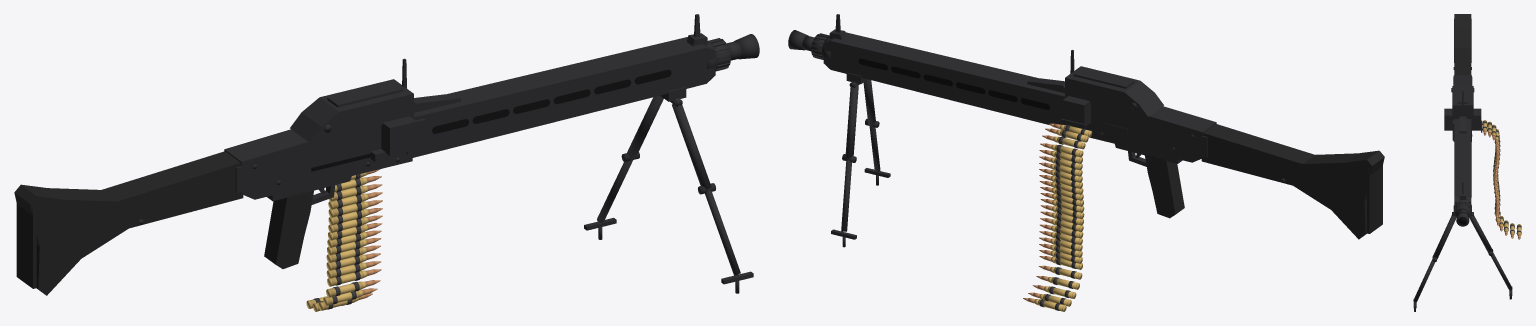
Rendered from lmg02.glb.
3 renders of one model, left to right at view 1: azimuth 30°, elevation 25°; view 2: azimuth 150°, elevation 25°; view 3: azimuth 270°, elevation 25°, orthographic. The views are drawn at different scales.
Visible parts, largest first — view 1: K_BarrelJacket, K_Stock, K_Receiver, K_BeltCases, K_FeedCover, K_BipodLegs, K_PistolGrip, K_ButtCap, K_JacketVents, K_BeltLinks, K_FeedTray, K_BeltBullets (+2 smaller); view 2: K_BarrelJacket, K_Stock, K_BeltCases, K_Receiver, K_FeedCover, K_BipodLegs, K_PistolGrip, K_BeltLinks, K_BeltBullets, K_ButtCap, K_JacketVents, K_FeedTray (+1 smaller); view 3: K_BarrelJacket, K_Stock, K_BipodLegs, K_BeltCases, K_FeedCover, K_FeedTray, K_BeltBullets, K_BeltLinks, K_Receiver, K_FeedCoverRib, K_RearSightBase, K_MuzzleRing (+1 smaller).
Boxes of the visible parts, x1=… form: K_BarrelJacket: x1=412, y1=37, x2=715, y2=157; K_Stock: x1=14, y1=151, x2=243, y2=295; K_Receiver: x1=224, y1=118, x2=412, y2=199; K_BeltCases: x1=306, y1=172, x2=368, y2=311; K_FeedCover: x1=290, y1=79, x2=413, y2=142; K_BipodLegs: x1=597, y1=95, x2=740, y2=275; K_PistolGrip: x1=264, y1=189, x2=314, y2=268; K_ButtCap: x1=16, y1=204, x2=36, y2=288; K_JacketVents: x1=436, y1=69, x2=667, y2=133; K_BeltLinks: x1=313, y1=174, x2=362, y2=309; K_FeedTray: x1=381, y1=116, x2=416, y2=155; K_BeltBullets: x1=359, y1=169, x2=382, y2=299; K_BarrelJacket: x1=823, y1=32, x2=1065, y2=124; K_Stock: x1=1201, y1=124, x2=1384, y2=239; K_BeltCases: x1=1034, y1=124, x2=1092, y2=311; K_Receiver: x1=1066, y1=97, x2=1216, y2=162; K_FeedCover: x1=1065, y1=66, x2=1163, y2=116; K_BipodLegs: x1=841, y1=79, x2=880, y2=231; K_PistolGrip: x1=1144, y1=154, x2=1184, y2=218; K_BeltLinks: x1=1039, y1=125, x2=1086, y2=310; K_BeltBullets: x1=1023, y1=123, x2=1060, y2=303; K_ButtCap: x1=1367, y1=166, x2=1382, y2=233; K_JacketVents: x1=861, y1=58, x2=1046, y2=109; K_FeedTray: x1=1062, y1=96, x2=1090, y2=126; K_BarrelJacket: x1=1454, y1=119, x2=1471, y2=216; K_Stock: x1=1454, y1=14, x2=1471, y2=75; K_BipodLegs: x1=1413, y1=215, x2=1512, y2=302; K_BeltCases: x1=1482, y1=120, x2=1521, y2=235; K_FeedCover: x1=1452, y1=86, x2=1473, y2=117; K_FeedTray: x1=1444, y1=108, x2=1481, y2=130; K_BeltBullets: x1=1483, y1=130, x2=1520, y2=239; K_BeltLinks: x1=1482, y1=121, x2=1521, y2=234; K_Receiver: x1=1453, y1=75, x2=1471, y2=141; K_FeedCoverRib: x1=1457, y1=85, x2=1468, y2=103; K_RearSightBase: x1=1459, y1=116, x2=1466, y2=133; K_MuzzleRing: x1=1455, y1=202, x2=1470, y2=216.
Size of the model in its own units: 1.23 by 0.4456 by 0.295.
